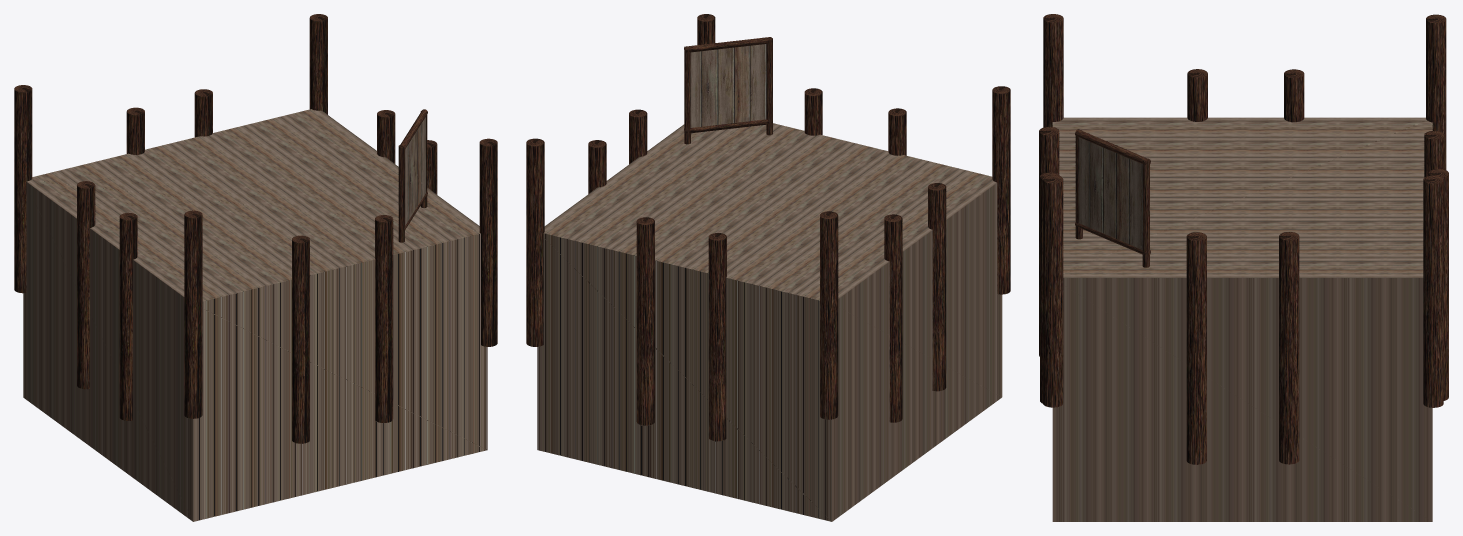
The model's file is grass.dae.
The picture shows the model from 3 angles, left to right: view 1: azimuth 30°, elevation 25°; view 2: azimuth 150°, elevation 25°; view 3: azimuth 270°, elevation 25°; orthographic projection. The views are drawn at different scales.
Parts seen in each view (by area): view 1: Box57, Cylinder1, Cylinder6, Cylinder7, Cylinder, Cylinder2, Cylinder8, Cylinder9, Cylinder3, Box55, Cylinder4, Cylinder11 (+3 smaller); view 2: Box57, Box55, Cylinder2, Cylinder11, Cylinder10, Cylinder3, Cylinder1, Cylinder8, Cylinder9, Cylinder5, Cylinder4, Cylinder7 (+5 smaller); view 3: Box57, Box55, Cylinder3, Cylinder5, Cylinder4, Cylinder, Cylinder2, Cylinder1, Cylinder11, Cylinder7, Cylinder9, Cylinder8 (+4 smaller).
Boxes of the visible parts, x1,y1,x2,y2 form: Box57: (23, 109, 487, 521); Cylinder1: (184, 210, 202, 418); Cylinder6: (375, 215, 393, 422); Cylinder7: (292, 235, 309, 443); Cylinder: (479, 138, 497, 346); Cylinder2: (14, 85, 32, 293); Cylinder8: (119, 212, 137, 420); Cylinder9: (77, 181, 95, 389); Cylinder3: (309, 14, 327, 114); Box55: (405, 117, 425, 225); Cylinder4: (377, 110, 395, 163); Cylinder11: (194, 89, 212, 137); Box57: (537, 123, 1002, 521); Box55: (690, 44, 766, 127); Cylinder2: (820, 211, 838, 419); Cylinder11: (636, 217, 654, 425); Cylinder10: (708, 233, 726, 441); Cylinder3: (526, 138, 544, 346); Cylinder1: (992, 86, 1010, 294); Cylinder8: (928, 183, 946, 391); Cylinder9: (884, 214, 902, 422); Cylinder5: (629, 109, 647, 164); Cylinder4: (588, 140, 606, 193); Cylinder7: (888, 108, 906, 155); Box57: (1052, 117, 1432, 521); Box55: (1078, 137, 1142, 249); Cylinder3: (1423, 175, 1443, 407); Cylinder5: (1186, 232, 1206, 464); Cylinder4: (1279, 232, 1299, 464); Cylinder: (1043, 175, 1063, 407); Cylinder2: (1426, 14, 1446, 169); Cylinder1: (1043, 14, 1063, 127); Cylinder11: (1428, 169, 1448, 400); Cylinder7: (1039, 127, 1059, 356); Cylinder9: (1284, 69, 1304, 122); Cylinder8: (1187, 69, 1207, 121).
Size of the model in its own units: 4.2 by 4.01 by 4.24.
